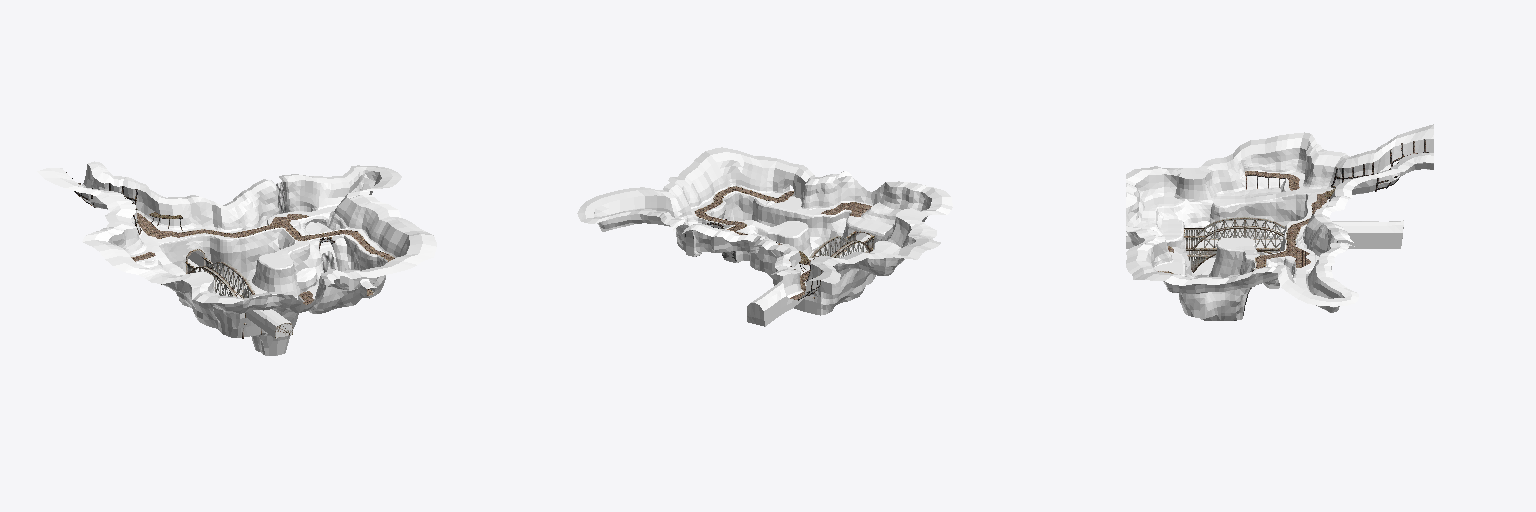
3 views of the same model, side by side, from view 1: azimuth 30°, elevation 25°; view 2: azimuth 150°, elevation 25°; view 3: azimuth 270°, elevation 25° (orthographic).
Visible parts, largest first — view 1: Object.302, Object.309, Object.317, Object.304; view 2: Object.302, Object.309, Object.317, Object.304; view 3: Object.302, Object.309, Object.304, Object.317.
Part boxes in pixels (left/top/right/bottom): Object.302: left=77, top=164, right=409, bottom=355; Object.309: left=37, top=161, right=436, bottom=303; Object.317: left=131, top=213, right=393, bottom=304; Object.304: left=185, top=257, right=261, bottom=338; Object.302: left=594, top=160, right=931, bottom=326; Object.309: left=577, top=147, right=952, bottom=283; Object.317: left=696, top=187, right=871, bottom=299; Object.304: left=809, top=231, right=874, bottom=298; Object.302: left=1126, top=139, right=1433, bottom=320; Object.309: left=1126, top=124, right=1433, bottom=306; Object.304: left=1184, top=217, right=1284, bottom=272; Object.317: left=1164, top=171, right=1329, bottom=273.
Bounding box in the file's own units: 294 × 110 × 242.
13 materials, 6 textured.